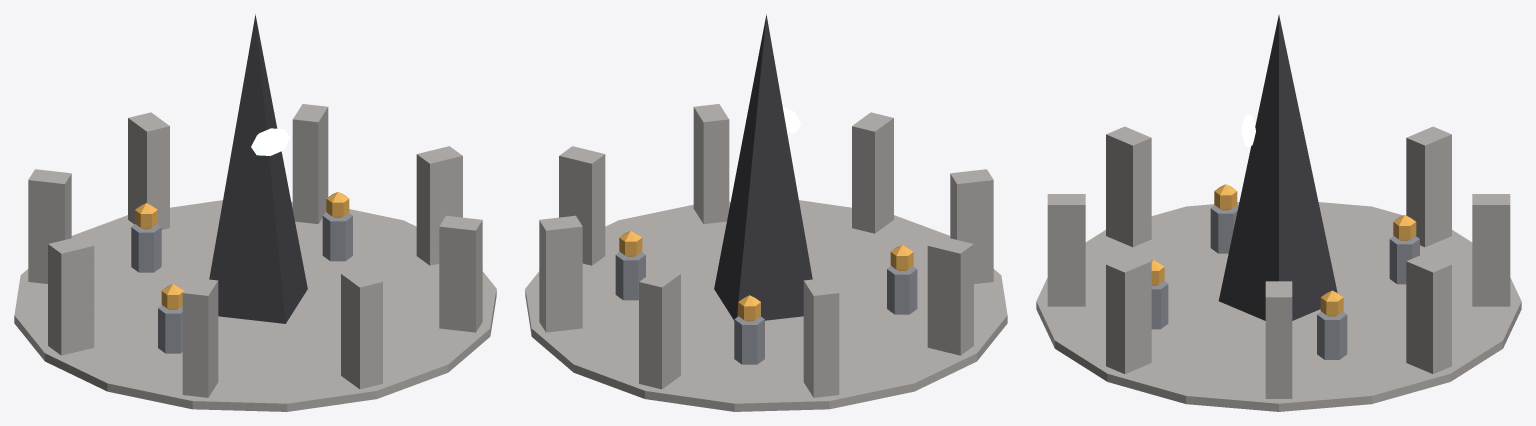
Rendered from cult_altar.glb.
The picture shows the model from 3 angles, left to right: view 1: azimuth 30°, elevation 25°; view 2: azimuth 150°, elevation 25°; view 3: azimuth 270°, elevation 25°; orthographic projection.
Visible parts, largest first — view 1: cult_altar; view 2: cult_altar; view 3: cult_altar.
Part boxes in pixels (left/top/right/bottom): cult_altar: left=14, top=14, right=496, bottom=411; cult_altar: left=525, top=14, right=1007, bottom=411; cult_altar: left=1036, top=15, right=1521, bottom=411.
Bounding box in the file's own units: 6.4 × 4.3 × 6.4.
